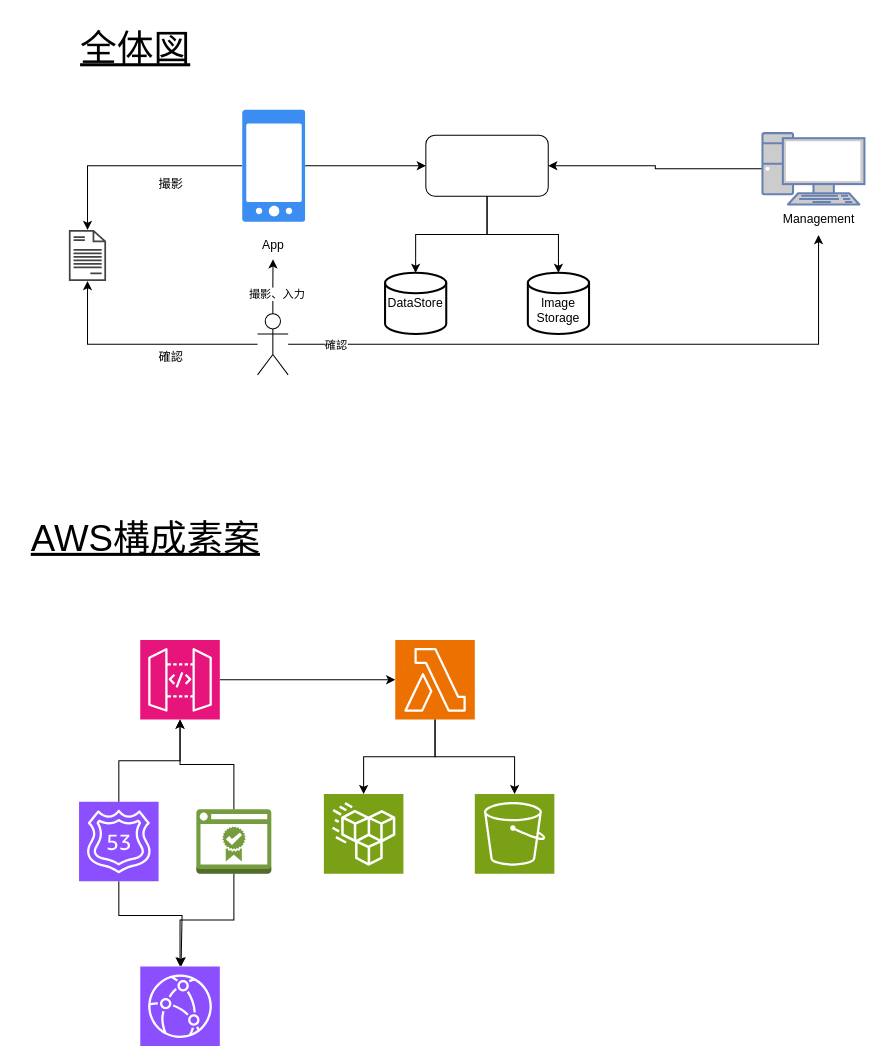
This 882x1064 diagram has some shape labels left out. The centre of each missing label's shape, as x and y in pixels:
"Actor" goes at (x=272, y=344).
"kujira-treasuer API/UI" goes at (x=486, y=165).
